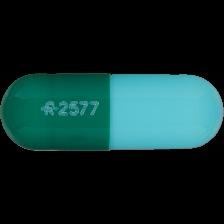55154-2052: (0, 0, 224, 224)
